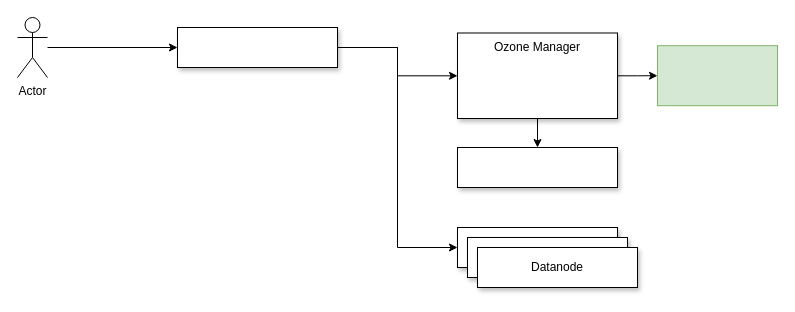
Image size: 795x312. Some labels were removed from this diagram. Here are the shapes that lost their labels. From the top down, the centre of each, then its label:
(258,48): S3 gateway
(717,75): Hashicorp Vault
(538,168): Storage Container Manager
